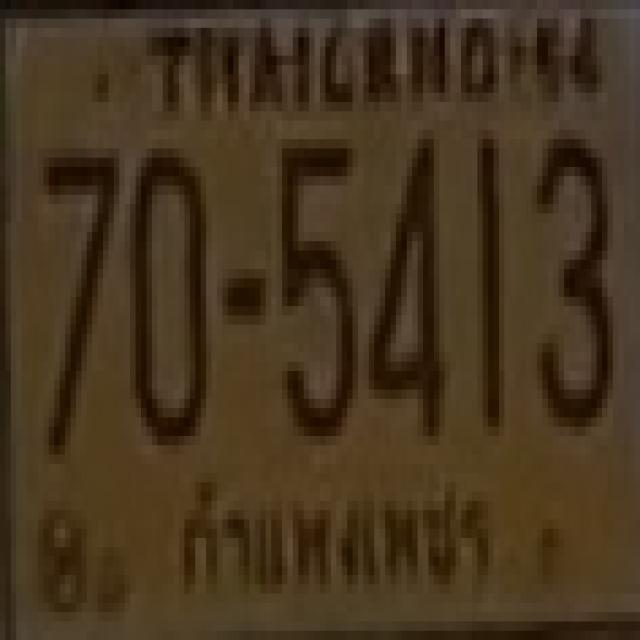0: (125, 139, 206, 436)
1: (474, 130, 502, 427)
3: (532, 135, 608, 422)
4: (366, 130, 442, 427)
5: (276, 130, 352, 436)
7: (38, 144, 114, 450)
KPT: (159, 459, 507, 609)
